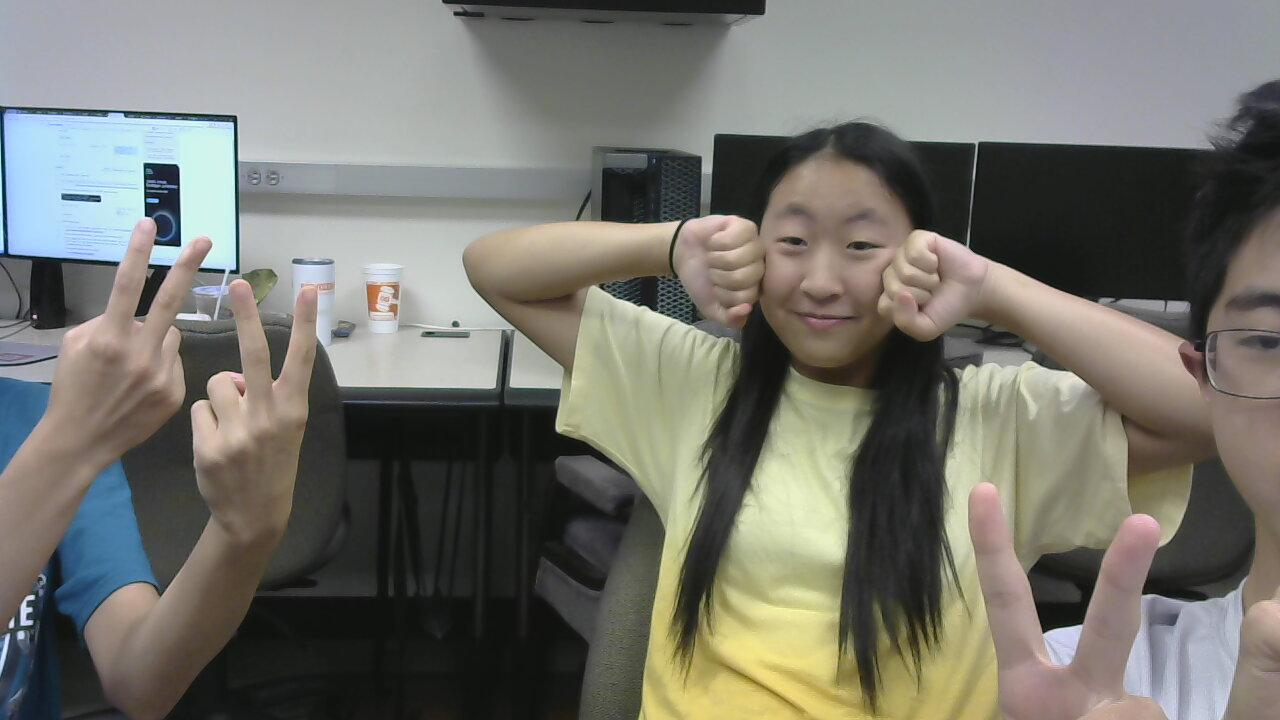fist: (862, 193, 985, 365), (652, 177, 775, 345)
peace: (959, 465, 1167, 720), (187, 230, 339, 577), (64, 197, 187, 475)
